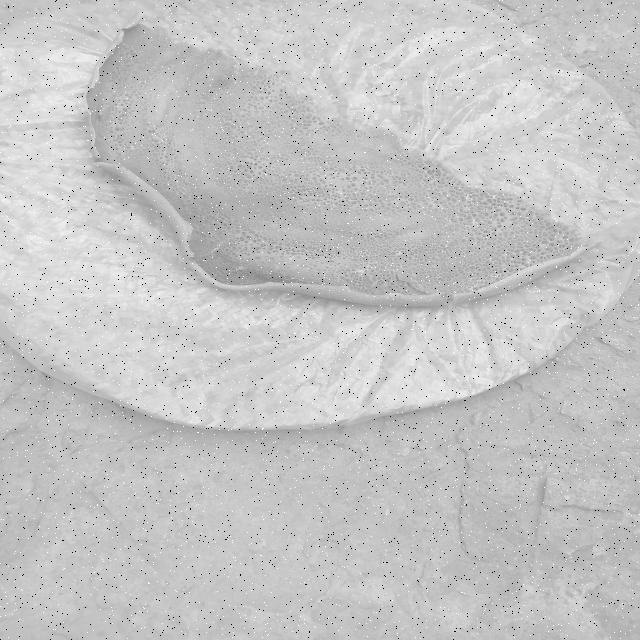injera_mold: (452, 276, 487, 290), (462, 215, 484, 228), (464, 189, 482, 204), (349, 264, 370, 274), (383, 263, 399, 273), (471, 262, 485, 272), (232, 264, 248, 272), (328, 190, 342, 199), (455, 295, 466, 302), (488, 193, 499, 200), (491, 274, 509, 278), (302, 210, 310, 218), (487, 260, 495, 268), (328, 203, 336, 210), (209, 231, 218, 237), (434, 274, 442, 280), (355, 253, 363, 257), (396, 251, 404, 255), (130, 145, 136, 150), (341, 265, 348, 268), (378, 243, 385, 246), (237, 255, 241, 258), (290, 278, 296, 280), (289, 257, 293, 260), (406, 254, 408, 256)
